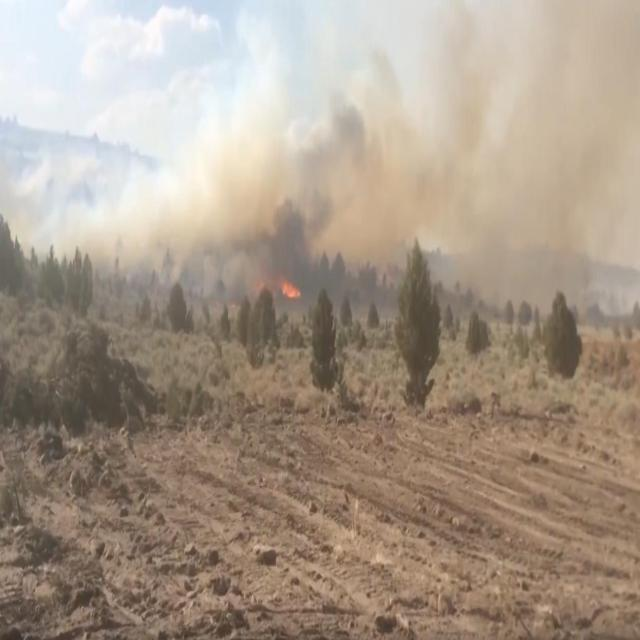Fire: (278, 275, 302, 300)
Smoke: (1, 1, 640, 320)
